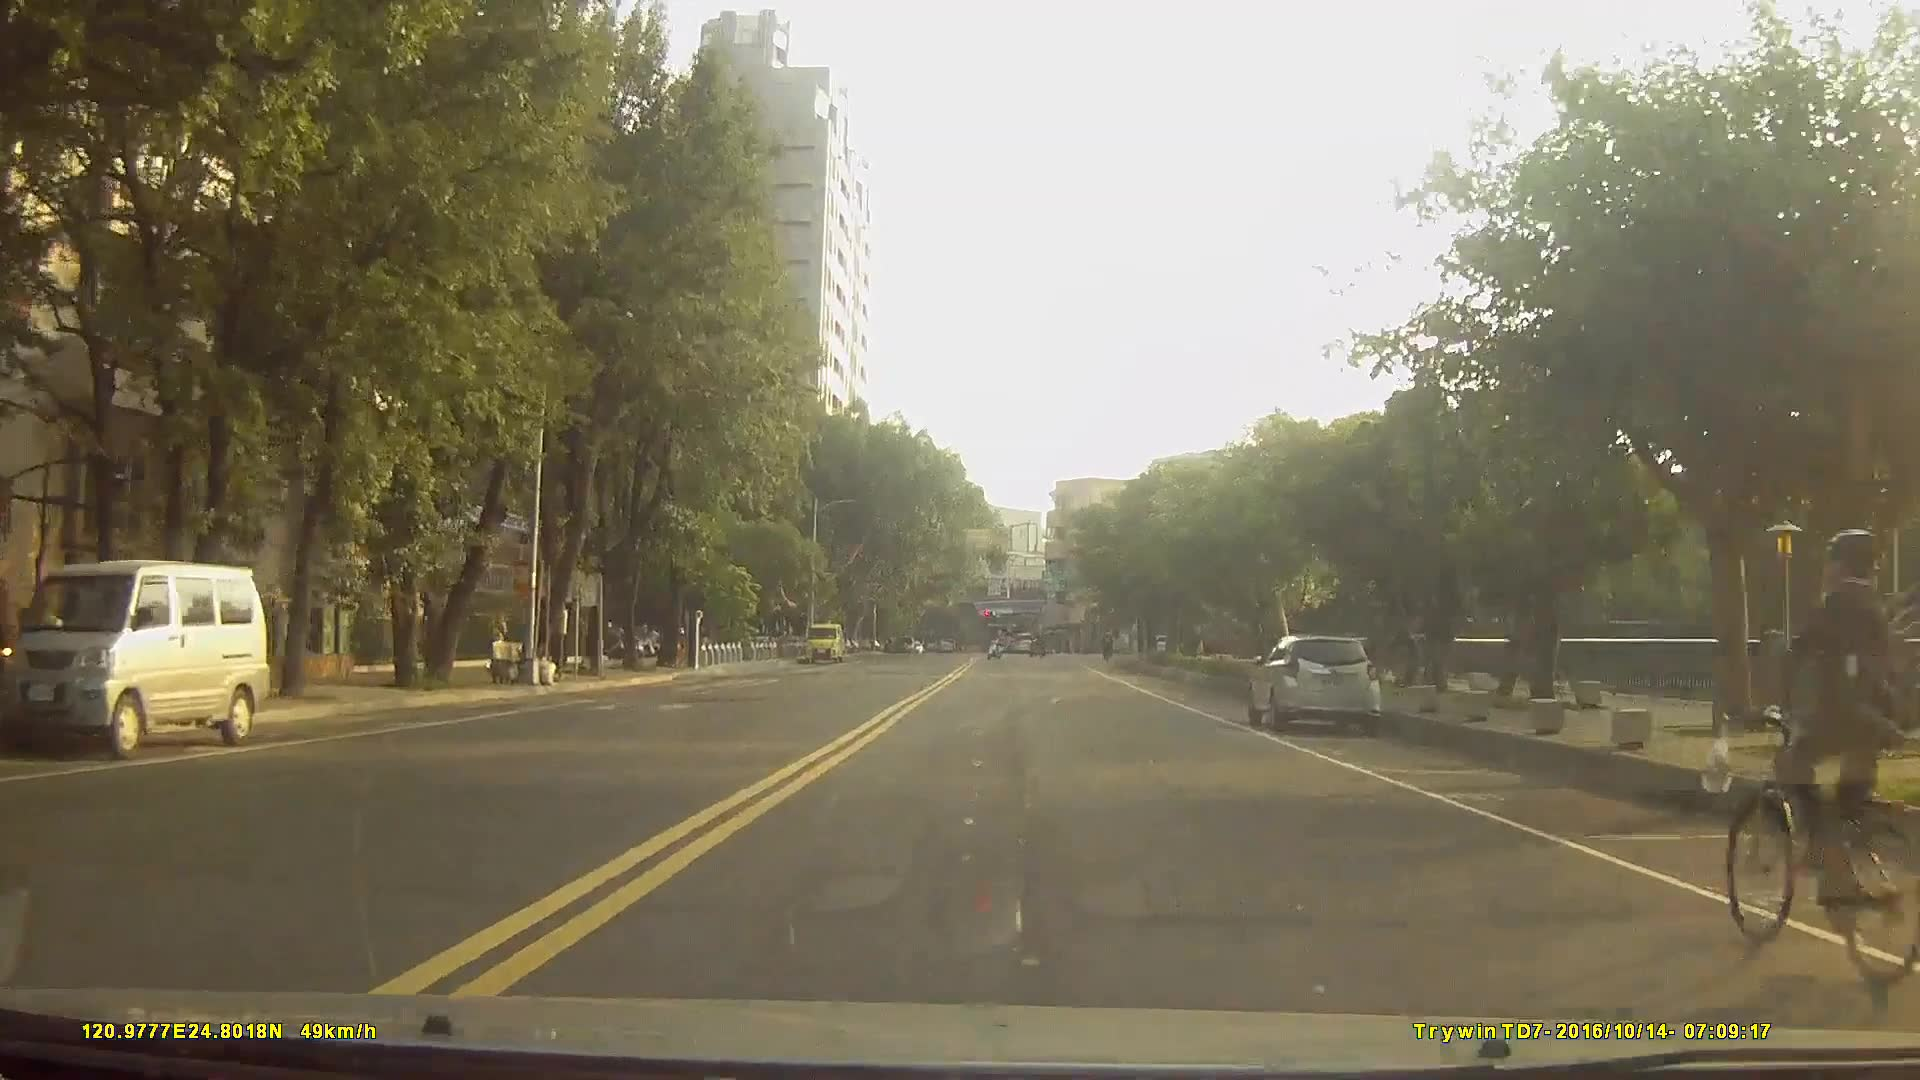rider: (1724, 528, 1911, 997)
vehicle: (0, 558, 271, 754), (1244, 633, 1385, 735), (1010, 629, 1037, 654)
